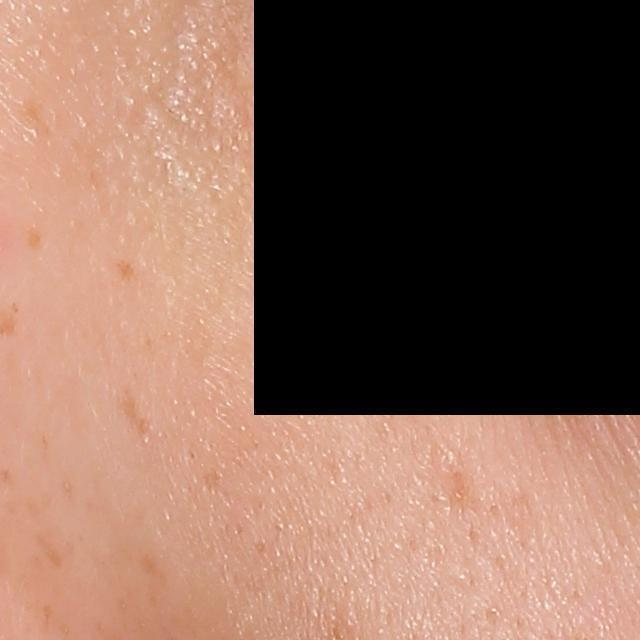melasma: (107, 378, 162, 449), (441, 457, 487, 521), (23, 222, 47, 253), (115, 258, 138, 280)
